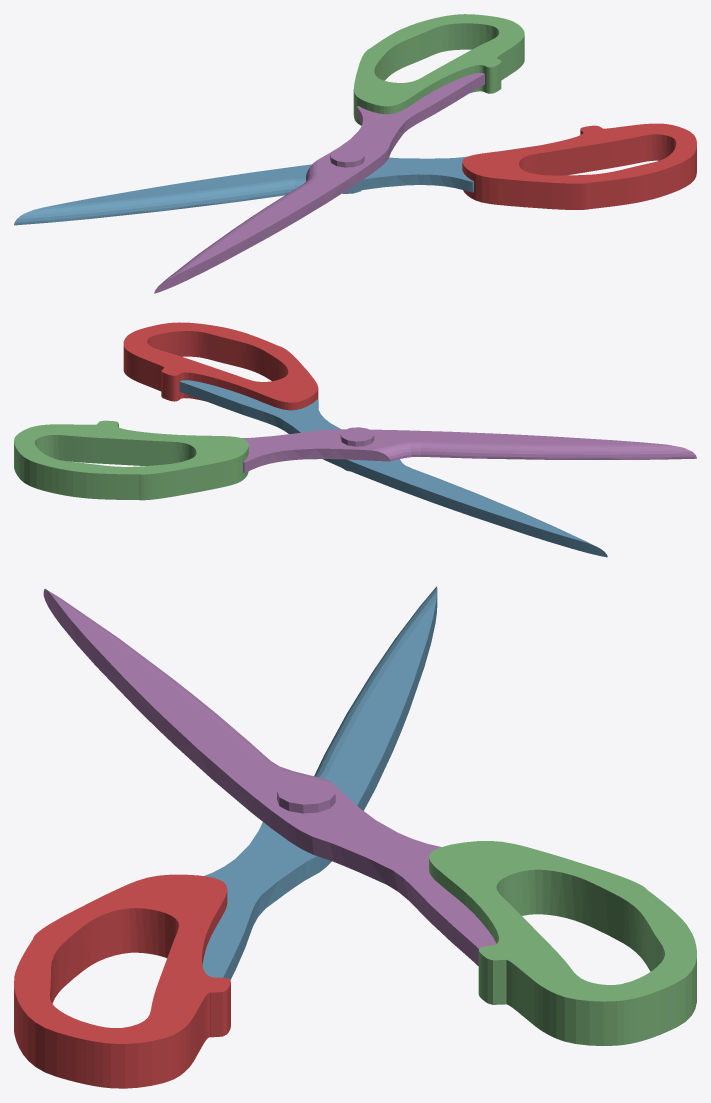
The picture shows the model from 3 angles, top to bottom: view 1: azimuth 30°, elevation 25°; view 2: azimuth 150°, elevation 25°; view 3: azimuth 270°, elevation 25°; orthographic projection. The views are drawn at different scales.
Parts seen in each view (by area): view 1: g0, g2, g3, g1; view 2: g2, g3, g0, g1; view 3: g2, g0, g3, g1.
Part boxes in pixels (x1,y1,x2,y2): g0: (462,123,696,209); g2: (353,14,524,125); g3: (154,73,484,293); g1: (14,146,534,225); g2: (14,420,248,500); g3: (242,427,696,472); g0: (123,322,318,410); g1: (179,380,607,557); g2: (429,841,696,1045); g0: (14,874,230,1088); g3: (43,589,496,965); g1: (202,586,437,979).
Size of the model in its own units: 1.9 by 0.1148 by 1.14.
